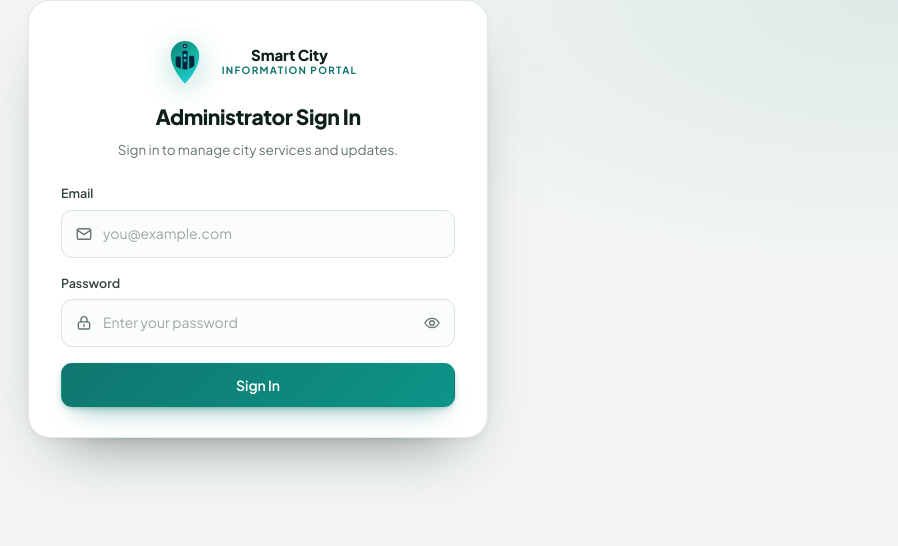
it: AdminLogin › shows accessible validation messages and does not submit an empty form
What coordinates should you click on to do the following:
click the button "Sign In"
I would click on:
 (258, 385)
Its box is [61,363,455,407].
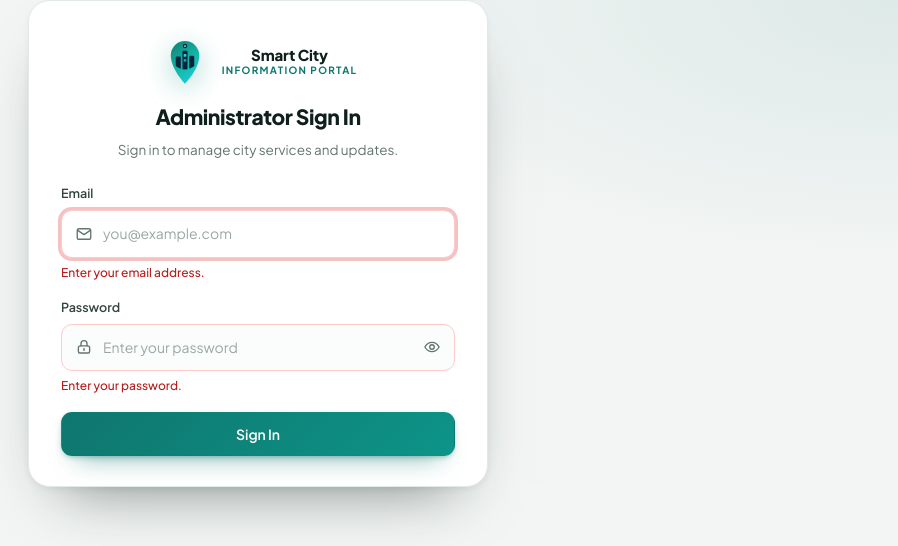
Now the text "Enter your email address." is shown, box [61,264,205,280]
Now the text "Enter your password." is shown, box [61,378,182,393]
